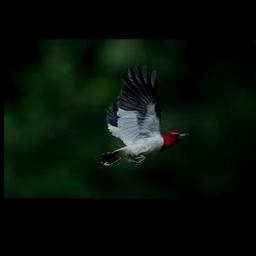Woodpecker: (96, 64, 189, 166)
